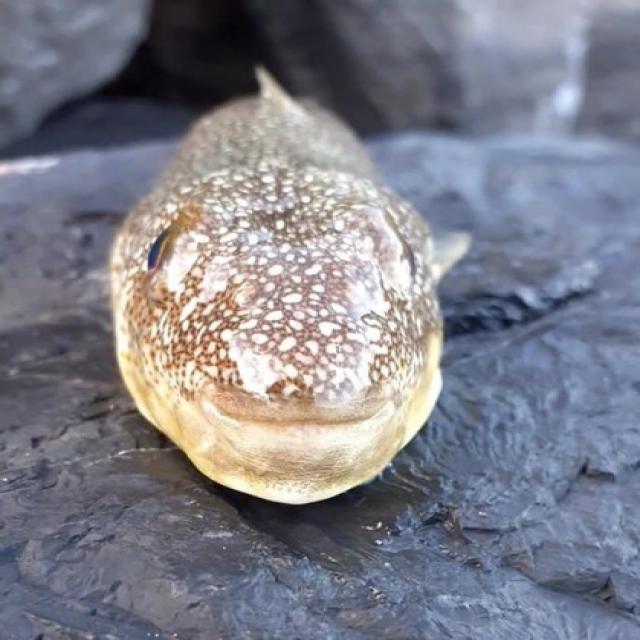Balik: (110, 71, 467, 503)
